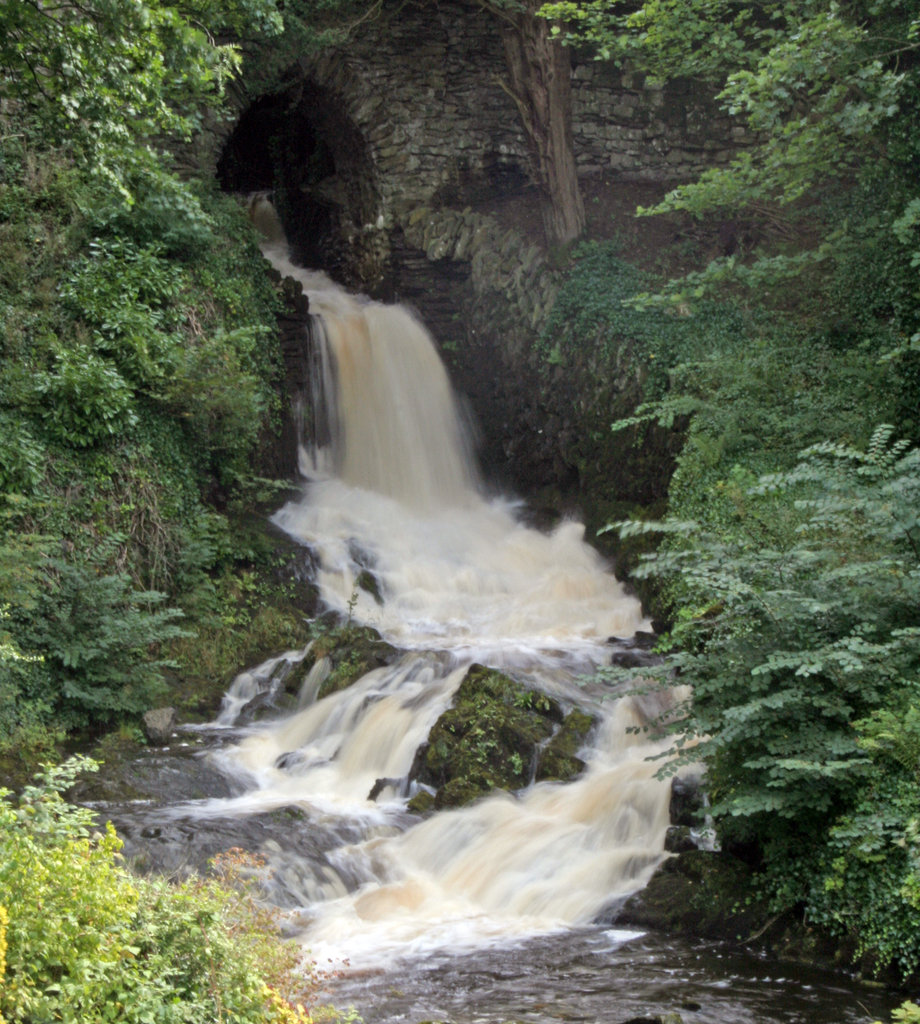Tree: (527, 0, 920, 439), (0, 0, 289, 444)
